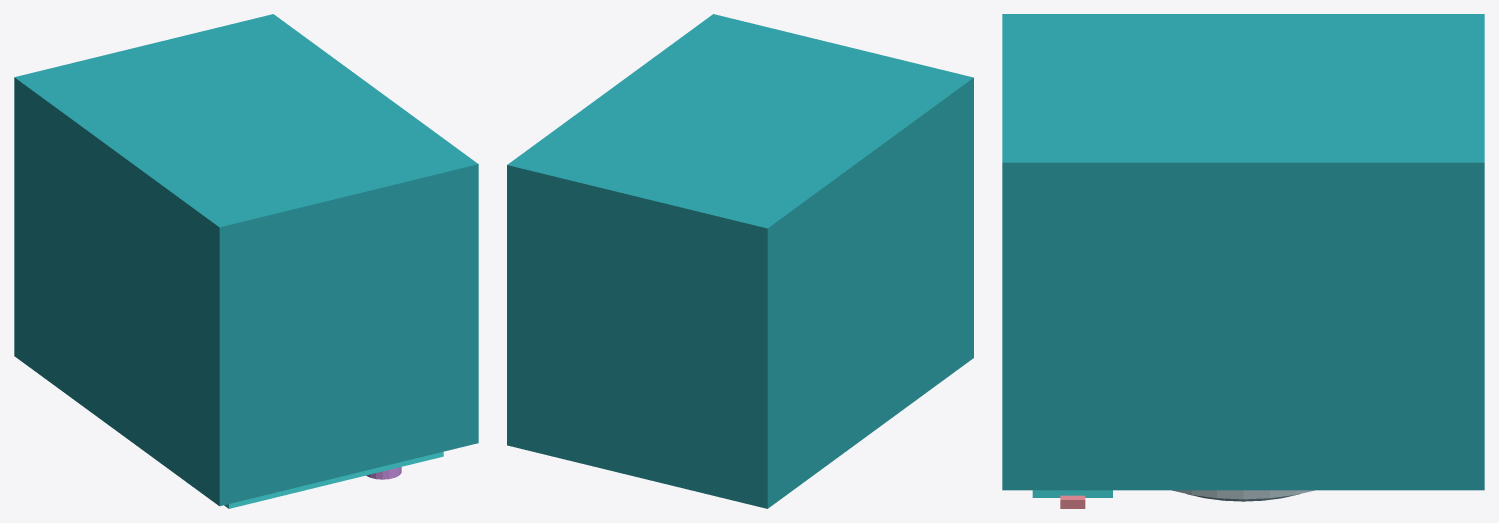
The model's file is dryer.glb.
The picture shows the model from 3 angles, left to right: view 1: azimuth 30°, elevation 25°; view 2: azimuth 150°, elevation 25°; view 3: azimuth 270°, elevation 25°; orthographic projection. The views are drawn at different scales.
Parts seen in each view (by area): view 1: world; view 2: world; view 3: world.
Part boxes in pixels (x1,y1,x2,y2): world: (14, 14, 478, 508); world: (507, 14, 973, 508); world: (1002, 14, 1484, 508).
Bounding box in the file's own units: 0.7 × 0.815 × 0.96.
